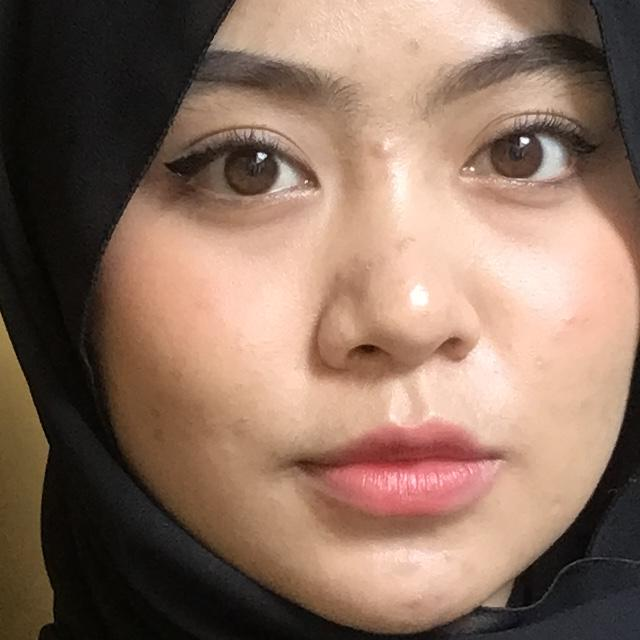kapan: (0, 286, 320, 640)
